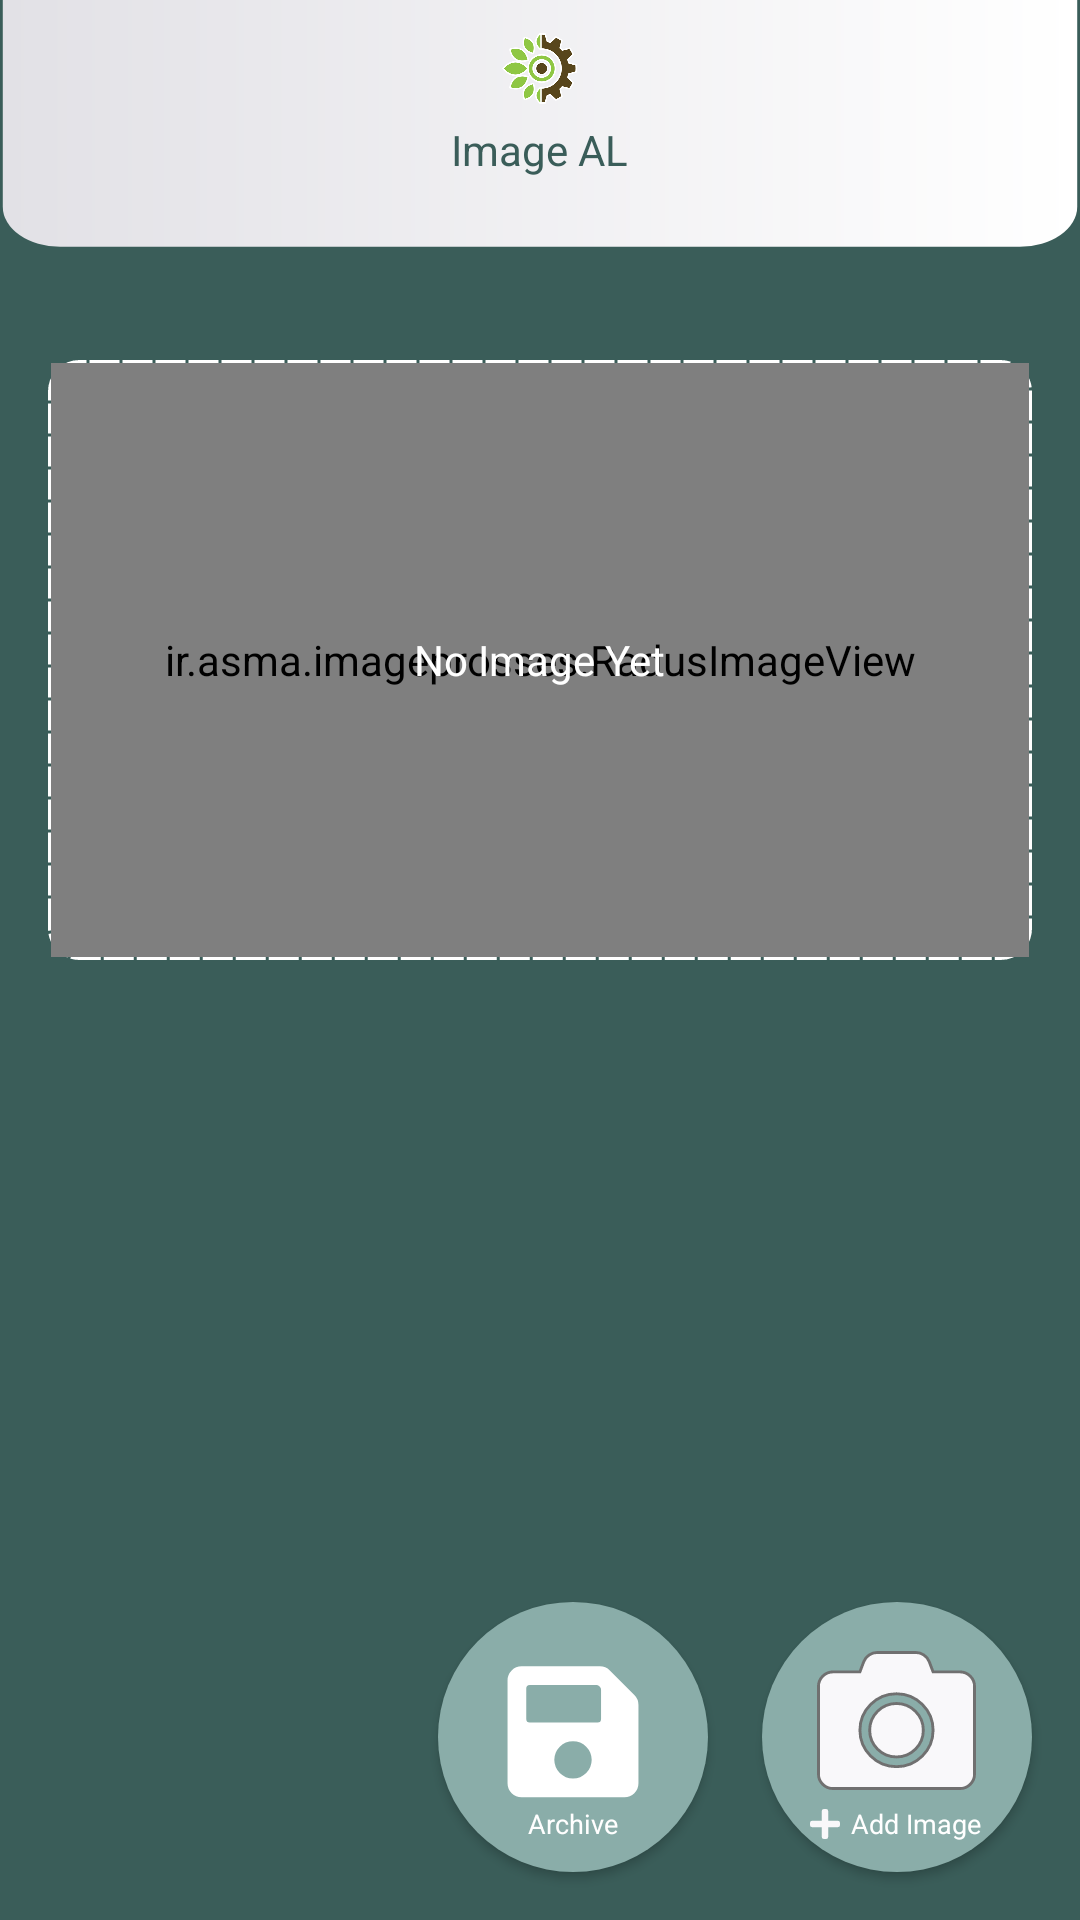

Screen size 1080 × 1920. Icon name, then its center in pixels as (x,y):
camera: (896,1720)
plus: (825,1824)
